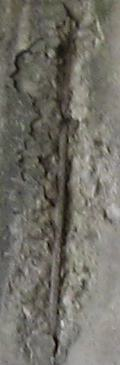Exposed reinforcement: (48, 124, 70, 338)
Spalling: (8, 1, 114, 365)
